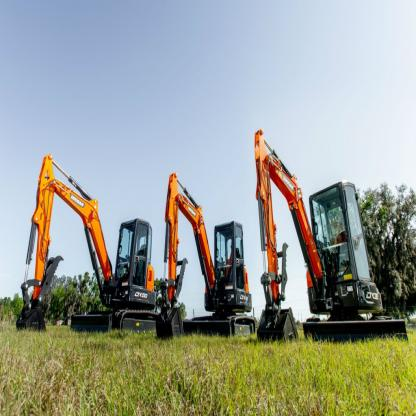excavator: (240, 99, 416, 359), (17, 136, 158, 360), (148, 170, 266, 391)
